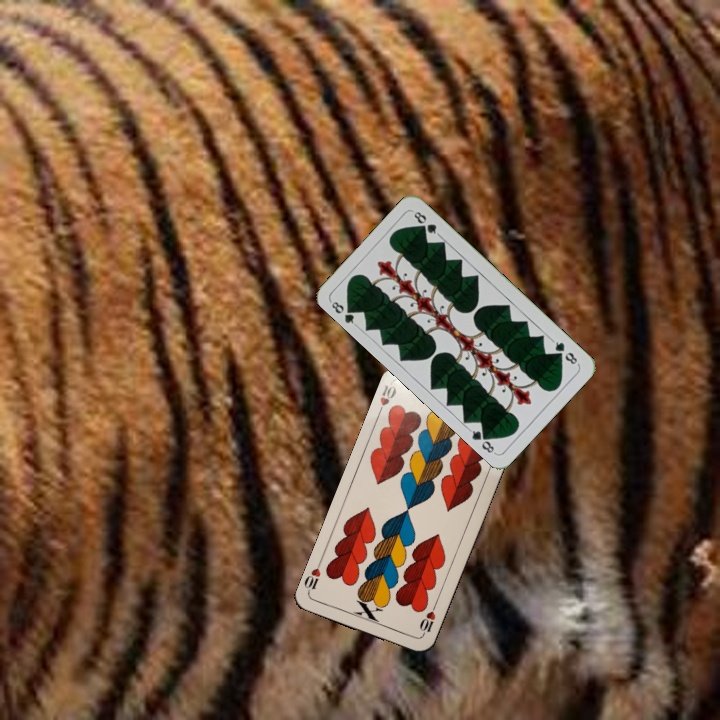G8: (326, 297, 359, 329), (548, 336, 581, 367)
H10: (373, 381, 399, 419), (415, 601, 439, 639)
